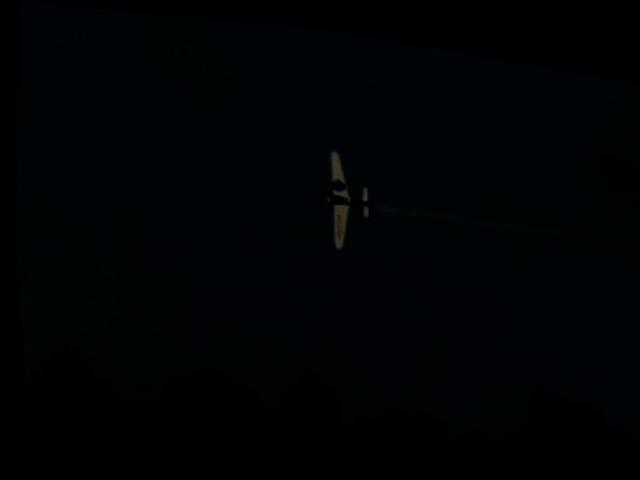uav: (302, 137, 381, 252)
